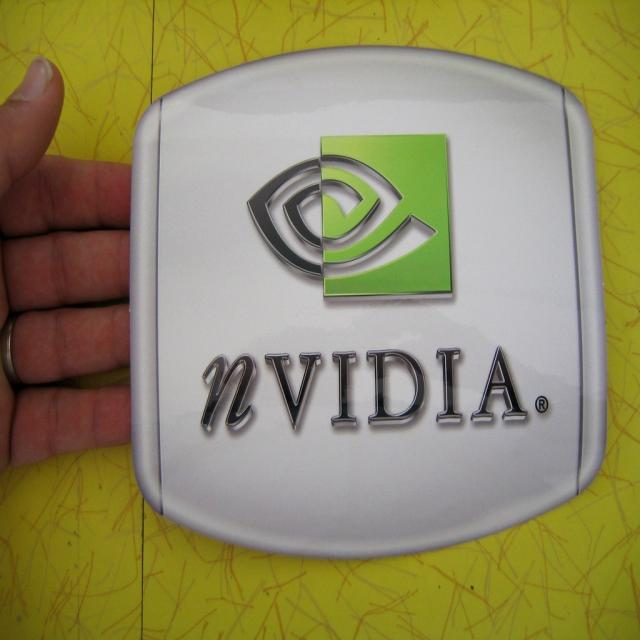nvidia: (246, 135, 453, 299)
